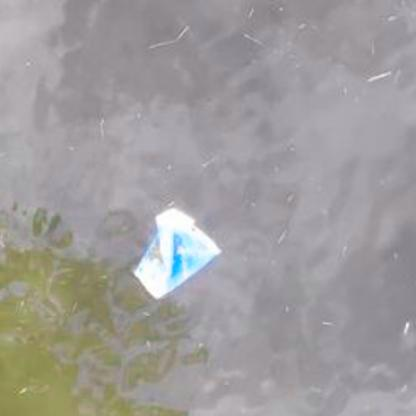Trash: (129, 205, 226, 304)
